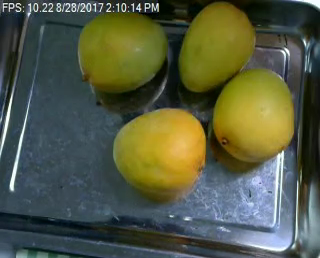Mango: (210, 67, 295, 161), (112, 108, 204, 193), (77, 11, 167, 95), (179, 4, 254, 91)
